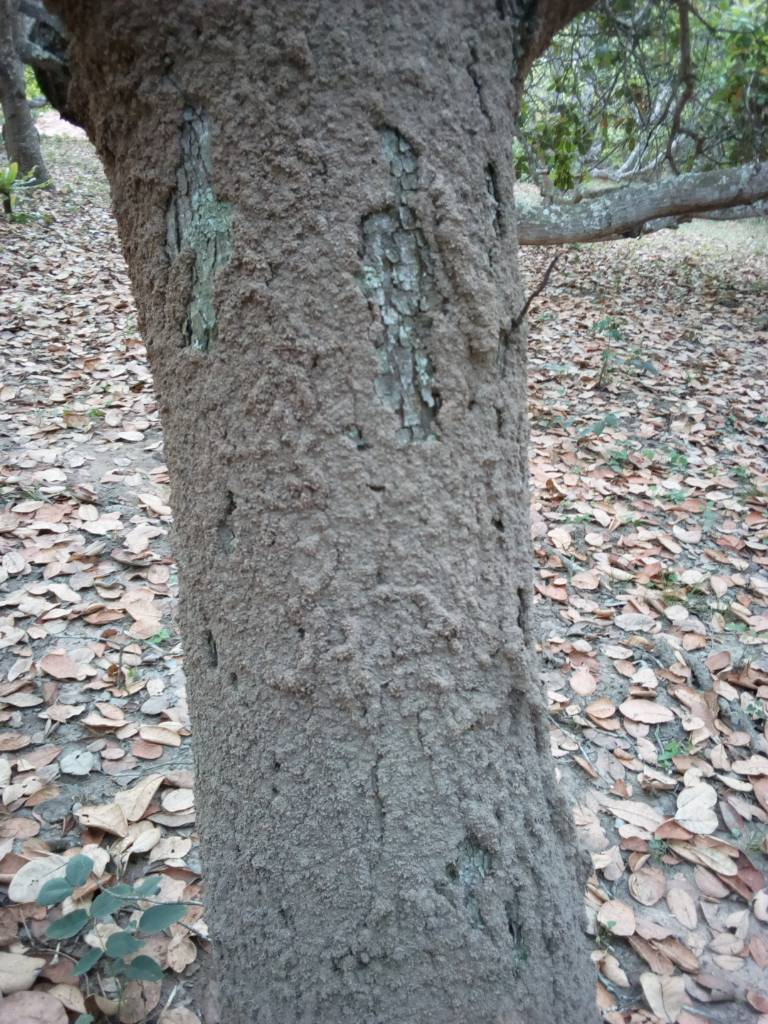Termites: (221, 8, 544, 1024), (110, 11, 211, 308)
